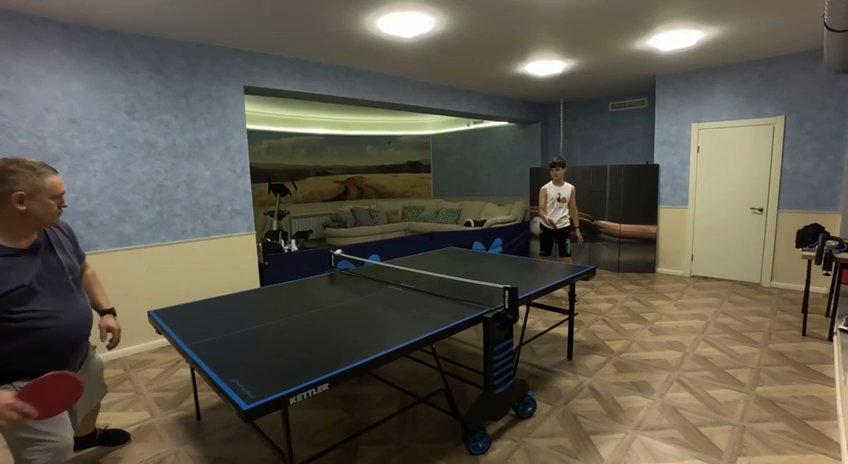Ball: (332, 247, 343, 255)
Net: (327, 251, 515, 308)
Player1: (538, 157, 582, 257)
Player2: (0, 157, 130, 463)
Table: (149, 247, 594, 409)
